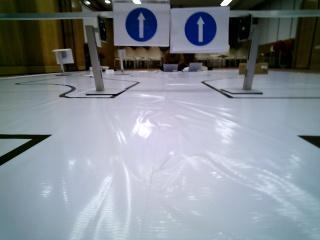straight: (171, 9, 227, 55), (114, 4, 167, 45)
